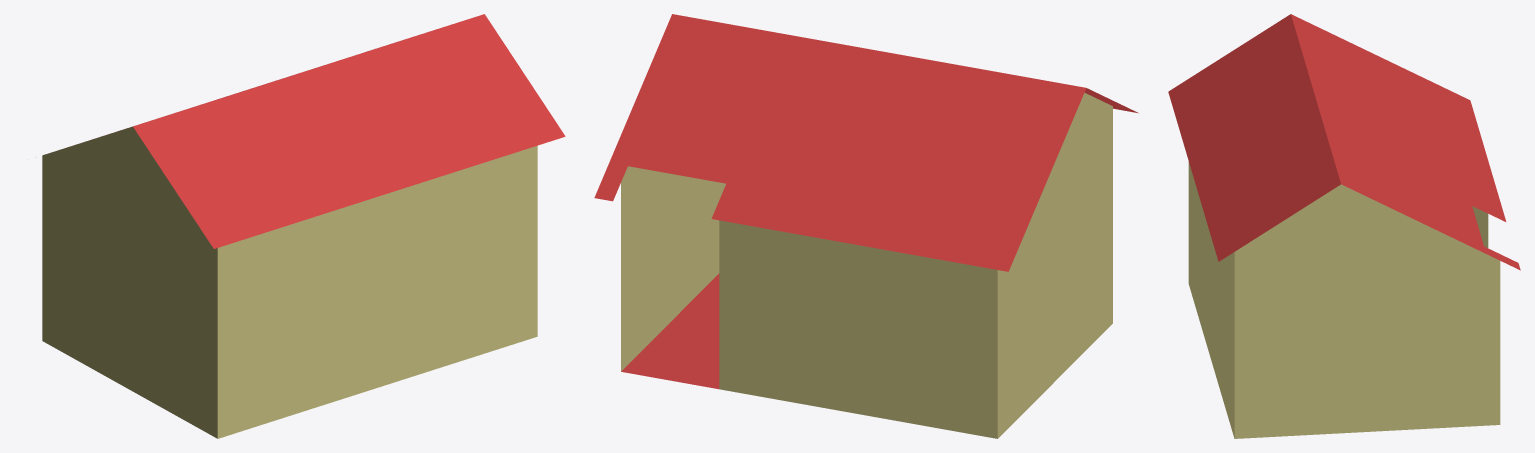
3 views of the same model, side by side, from view 1: azimuth 30°, elevation 25°; view 2: azimuth 150°, elevation 25°; view 3: azimuth 270°, elevation 25° (orthographic). The views are drawn at different scales.
Size of the model in its own units: 17.98 by 14.39 by 11.56.
